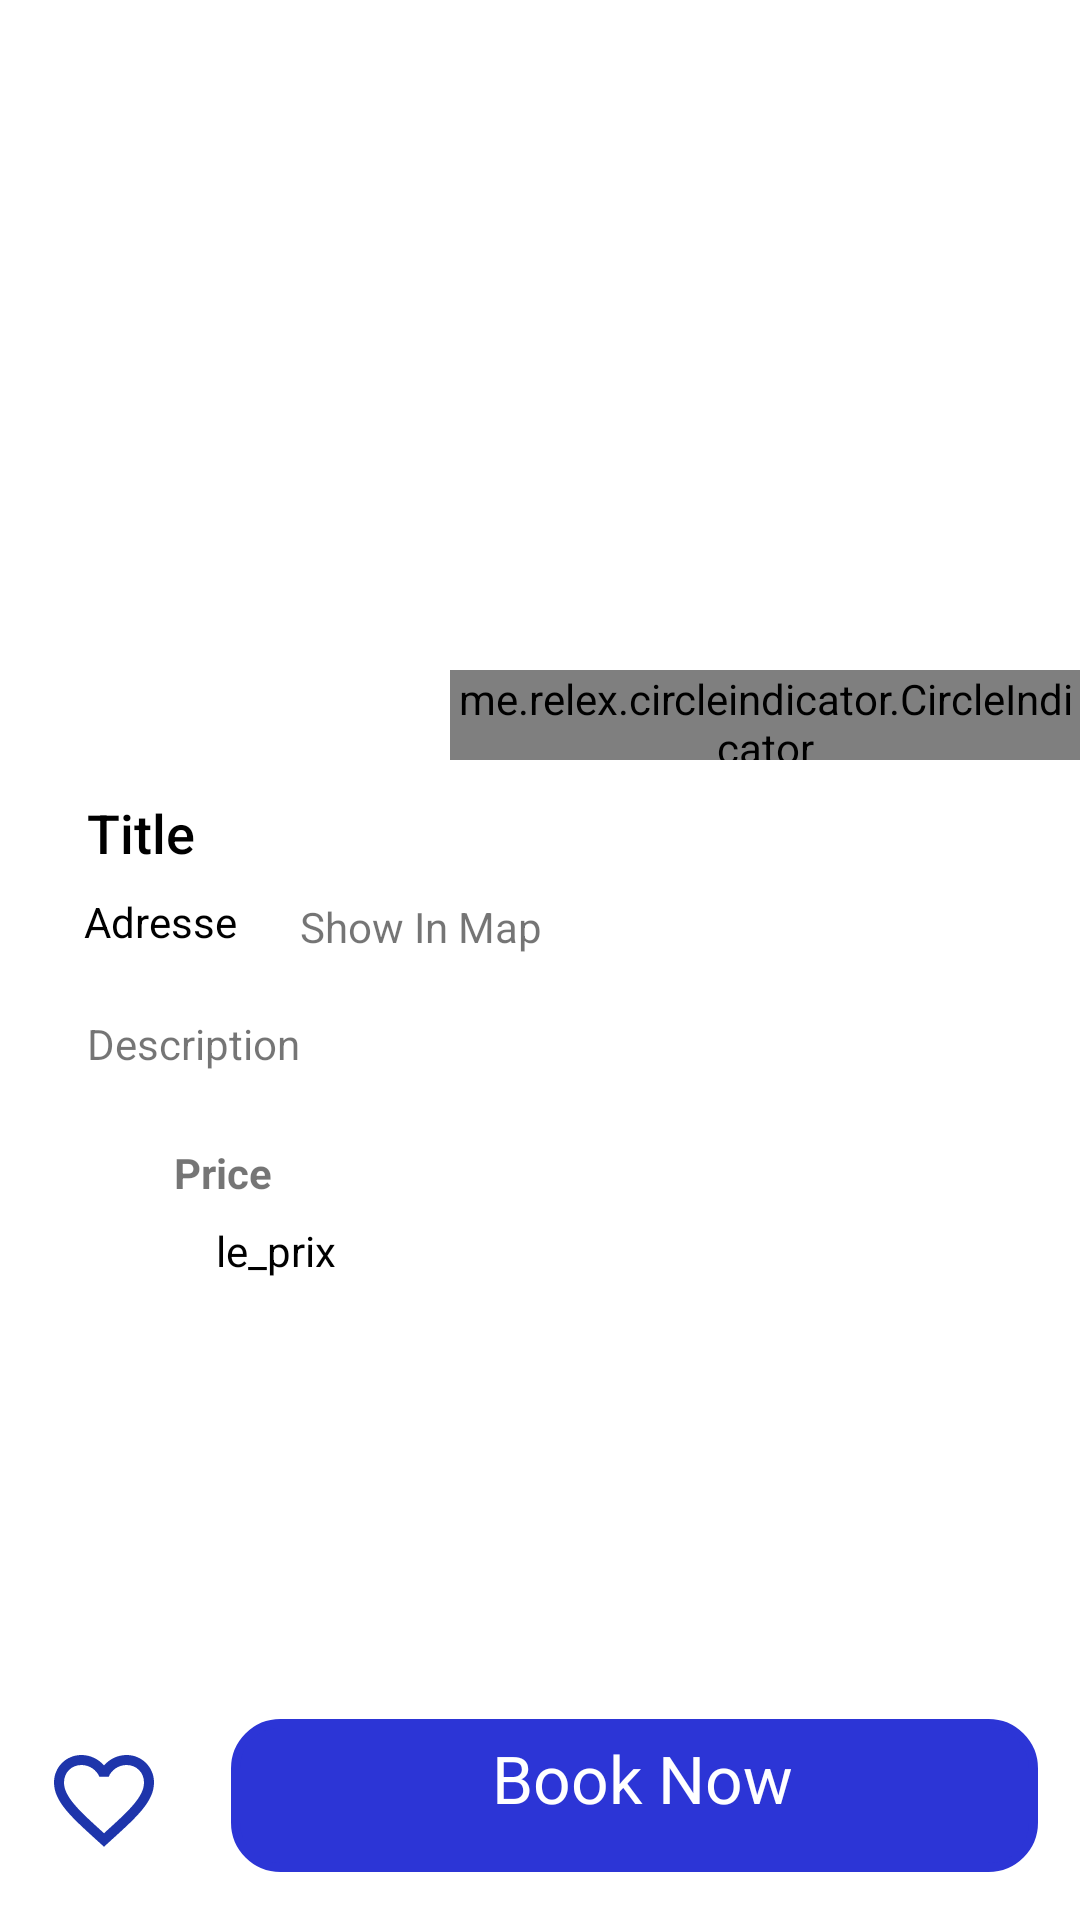

Screen size 1080×1920. Icon name, then its center in pixels as (x=x, y=y):
favorie: (x=104, y=1801)
